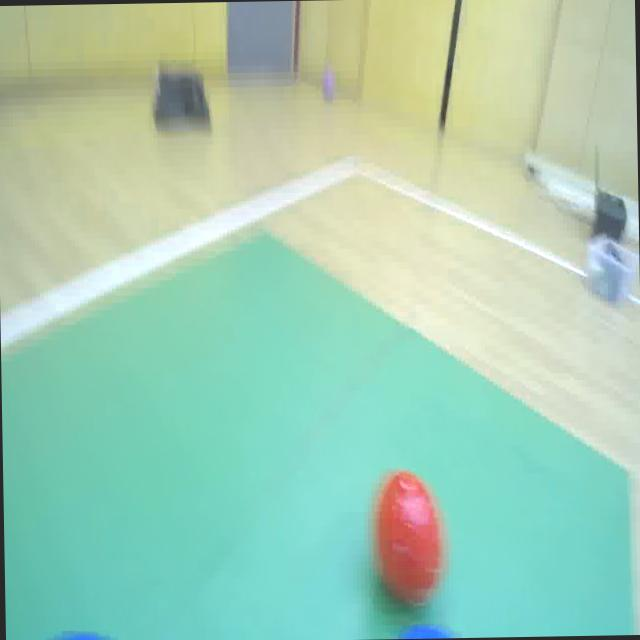red_ball: (368, 463, 445, 613)
